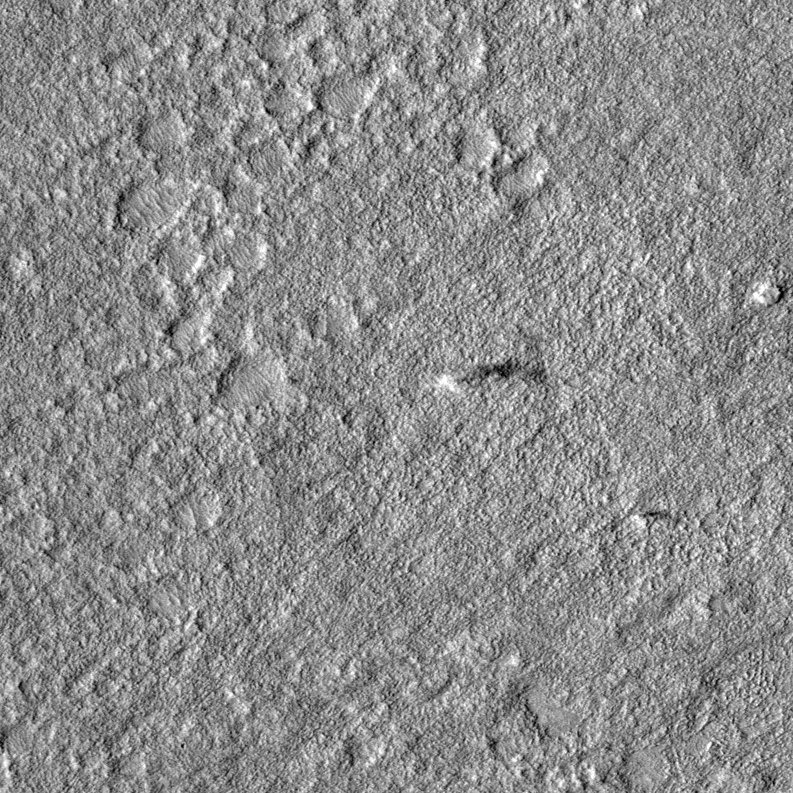dust_devil: (431, 355, 552, 399)
